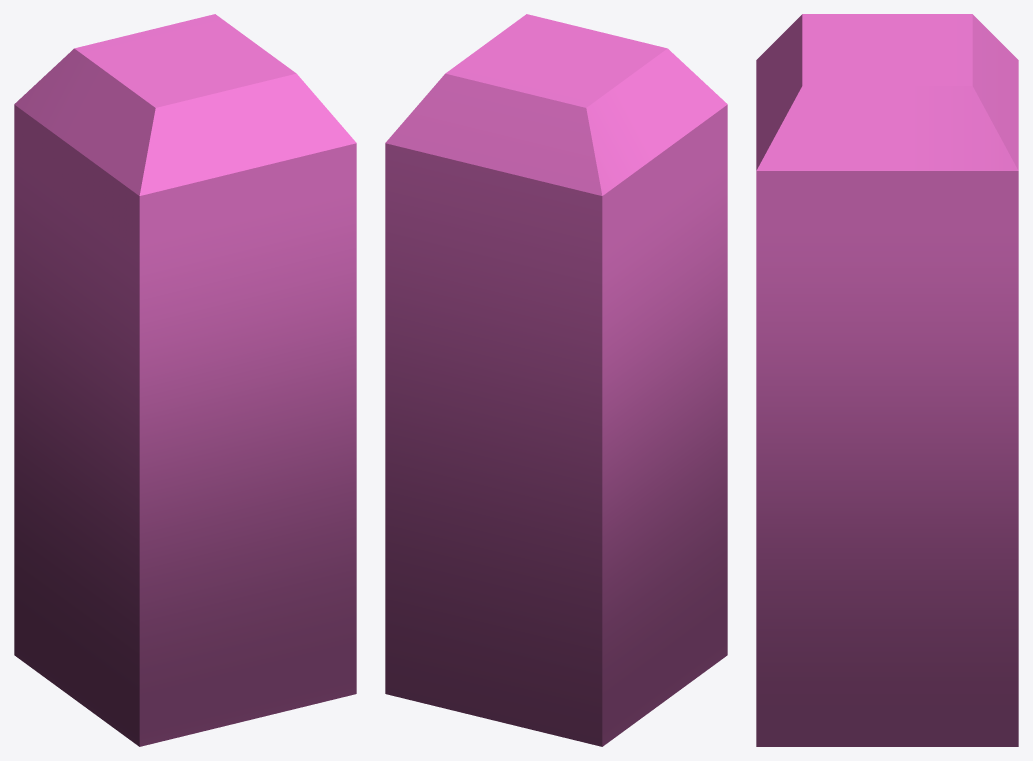
Rendered from Crystal004.fbx.
3 renders of one model, left to right at view 1: azimuth 30°, elevation 25°; view 2: azimuth 150°, elevation 25°; view 3: azimuth 270°, elevation 25°, orthographic. The views are drawn at different scales.
Visible parts, largest first — view 1: Crystal004; view 2: Crystal004; view 3: Crystal004.
Part boxes in pixels (x1,y1,x2,y2): Crystal004: [14, 14, 356, 746]; Crystal004: [385, 14, 727, 746]; Crystal004: [756, 14, 1018, 746].
Size of the model in its own units: 25.43 by 68.64 by 25.43.
